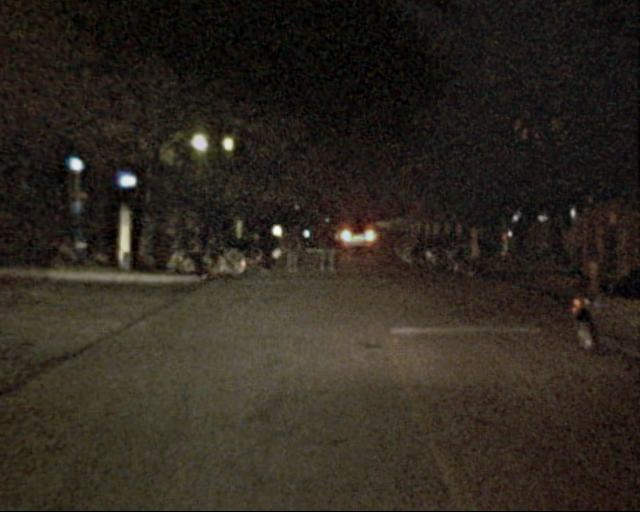person: (185, 217, 212, 283), (315, 221, 338, 277), (253, 219, 275, 270), (277, 222, 297, 271)
